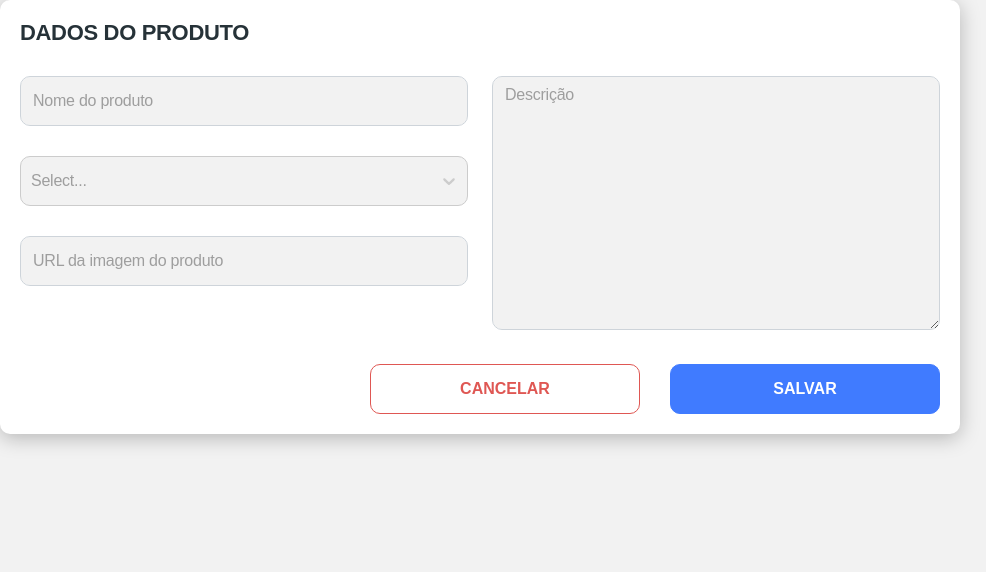
Test case: Product form create tests › should show 5 validation messages when just clicking submit
The width and height of the screenshot is (986, 572).
Step 1. Click the button "SALVAR" → x=805, y=389, box [670, 364, 940, 414]
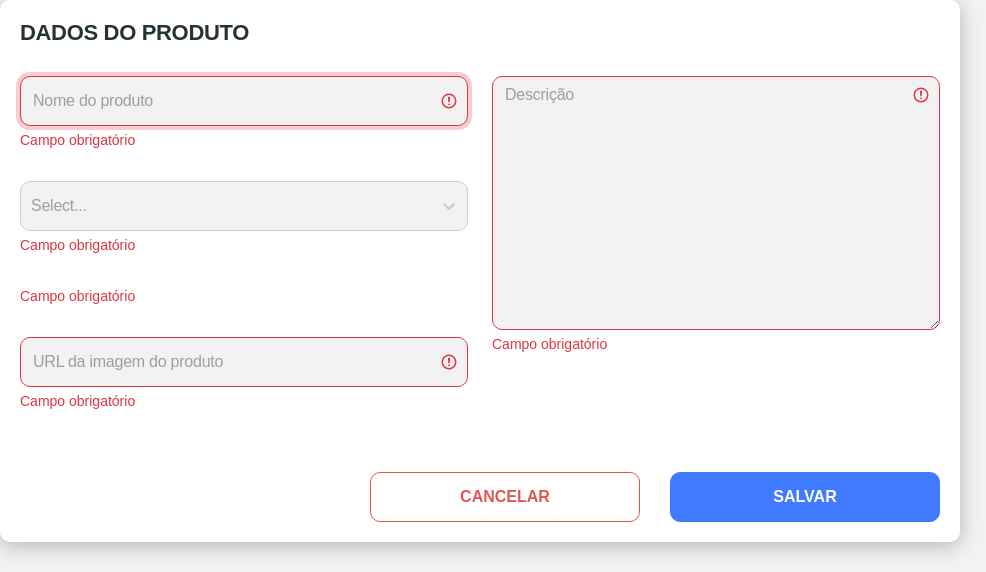
Result: the text "Campo obrigatório" is shown 5 times at [20, 132, 135, 148]; [20, 237, 135, 253]; [20, 288, 135, 304]; [20, 393, 135, 409]; [492, 336, 607, 352]
